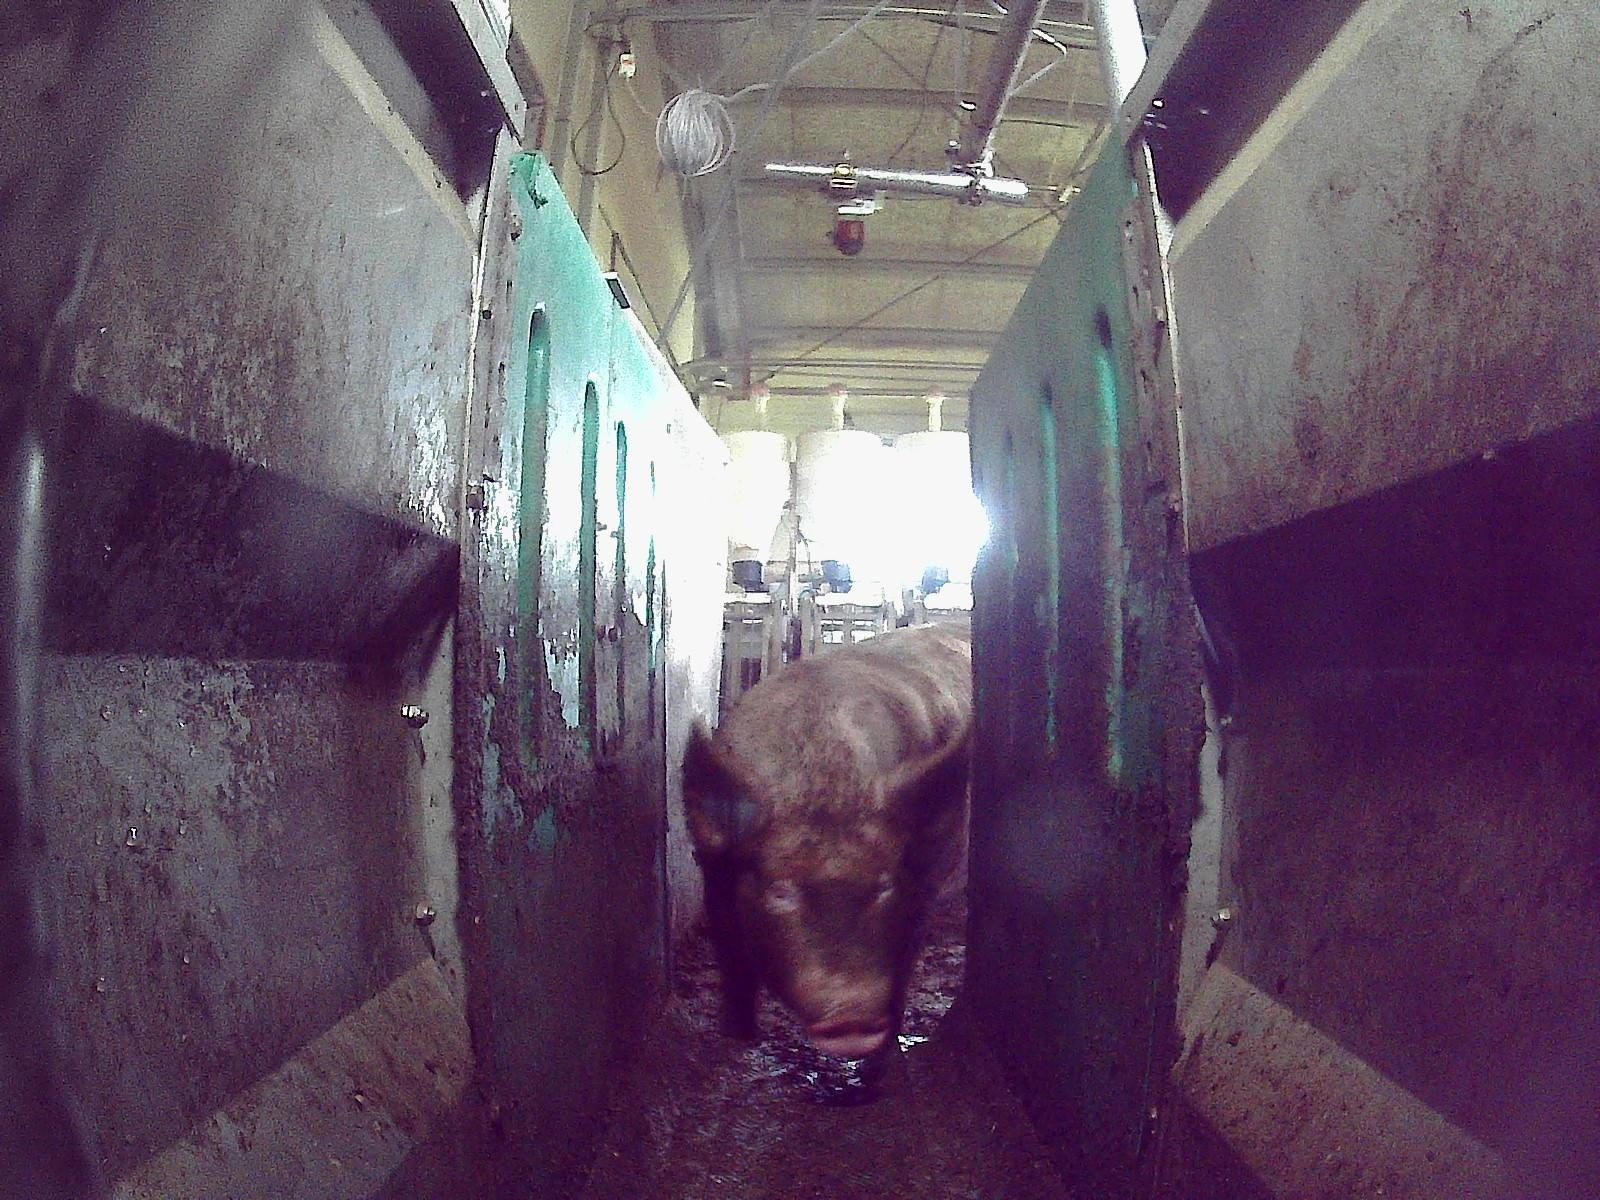Face: (734, 764, 907, 1051)
